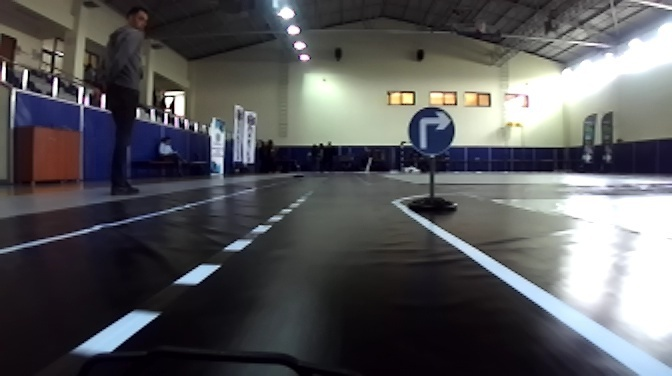saga_donus: (406, 104, 456, 154)
